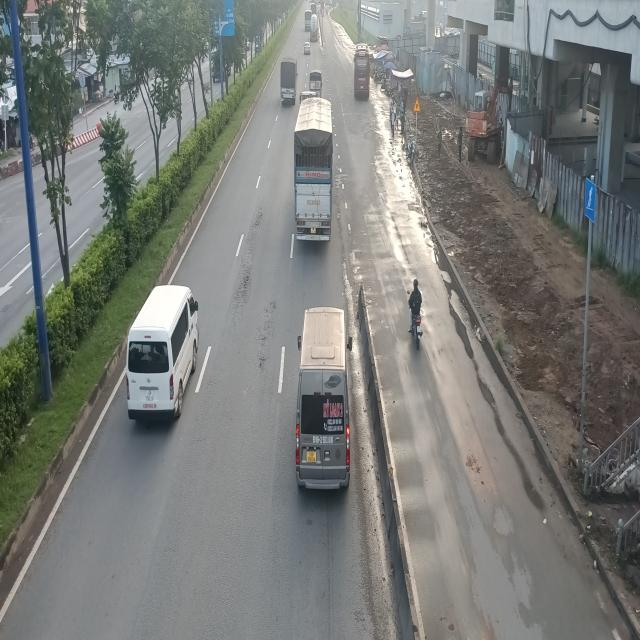coach: (353, 45, 371, 100)
truck: (292, 96, 333, 244), (279, 56, 298, 107)
van: (296, 307, 356, 490), (126, 285, 202, 424)
